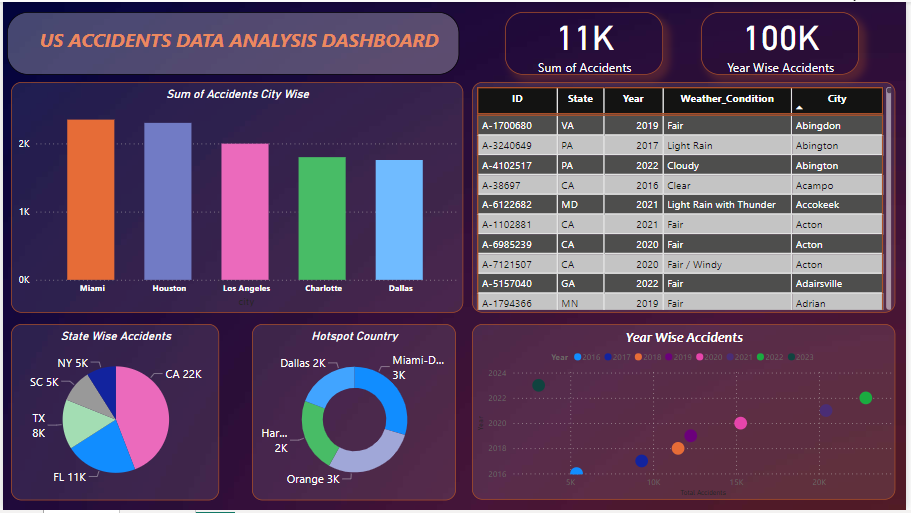

The dashboard page shown, as its layout file describes it:
{"tool":"powerbi","page":{"name":"Page 1","canvas":[1280,720],"ordinal":0},"visuals":[{"type":"textbox","box":[5,14,640.8,88.9],"z":0},{"type":"columnChart","title":"Sum of Accidents City Wise","fields":{"Category":["top_five_city.city"],"Y":["Sum(top_five_city.total_accidents)"]},"box":[11.3,113.4,640.6,327.4],"z":1000},{"type":"pieChart","title":"State Wise Accidents","fields":{"Category":["top_three_state.state"],"Y":["Sum(top_three_state.total_state_accidents)"]},"box":[11.7,456.3,295.3,250],"z":2000},{"type":"donutChart","title":"Hotspot Country","fields":{"Category":["hotspot_place_accidents.county"],"Y":["Sum(hotspot_place_accidents.total_country_accidents)"]},"box":[352.3,456.3,288.5,250],"z":3000},{"type":"card","title":"Hotspot Country","fields":{"Values":["Sum(hotspot_place_accidents.total_country_accidents)"]},"box":[711.5,14.2,223.9,89.3],"z":4000},{"type":"card","title":"Hotspot Country","fields":{"Values":["Sum(top_five_city.total_accidents)"]},"box":[989.3,14.2,223.9,89.3],"z":5000},{"type":"tableEx","title":"Sum of Accidents City Wise","fields":{"Values":["result.id","result.state","result.year","result.weather_condition","result.city"]},"box":[664.7,113.4,599.5,327.4],"z":6000},{"type":"areaChart","title":"Year Wise Accidents","fields":{"Category":["year_wise_accidents.total_accidents_yearwise"],"Series":["year_wise_accidents.year"],"Y":["Min(year_wise_accidents.year)"]},"box":[665,456.4,600,249],"z":6001}]}

Visuals, with their boxes in screenshot pixels (x1, y1, x2, y2), scaled from the page's 1280x720 canvas onto the 911x513 screenshot:
textbox: [4, 10, 460, 73]
"Sum of Accidents City Wise" columnChart: [8, 81, 464, 314]
"State Wise Accidents" pieChart: [8, 325, 218, 503]
"Hotspot Country" donutChart: [251, 325, 456, 503]
"Hotspot Country" card: [506, 10, 666, 74]
"Hotspot Country" card: [704, 10, 863, 74]
"Sum of Accidents City Wise" tableEx: [473, 81, 900, 314]
"Year Wise Accidents" areaChart: [473, 325, 900, 503]
